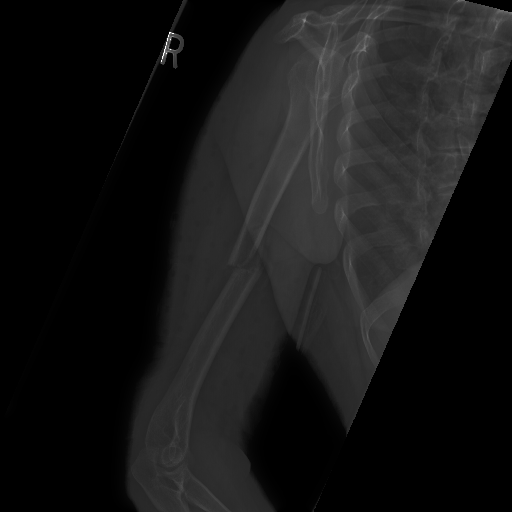fracture: (218, 237, 273, 300)
